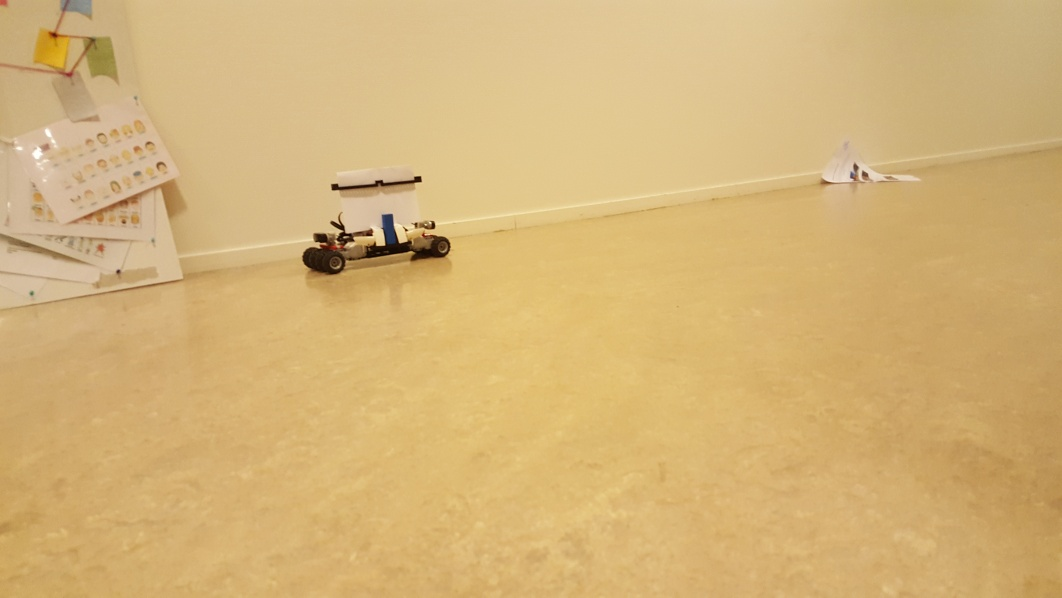beam: (380, 211, 398, 246)
